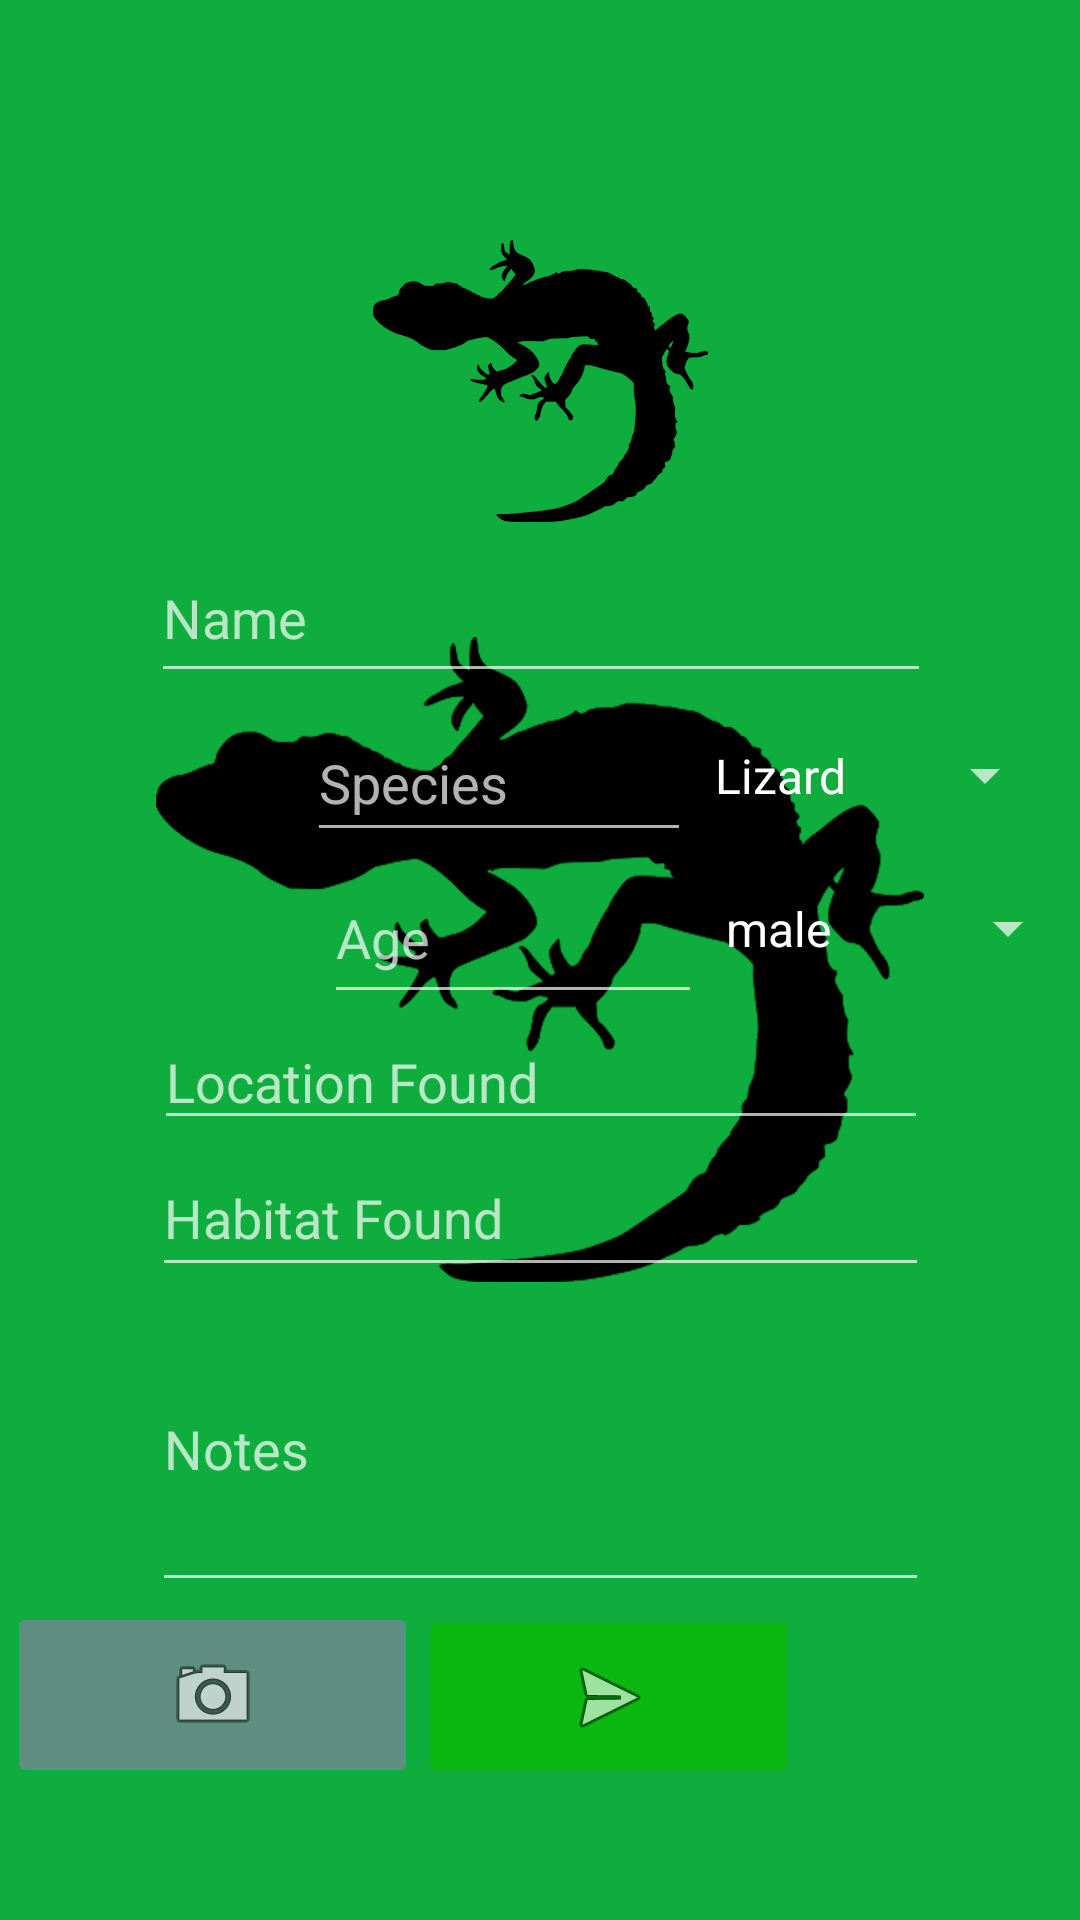

Screen size 1080 × 1920. Icon name, then its center in pixels as [x,y]:
gecko: [540,381]
send: [608,1696]
